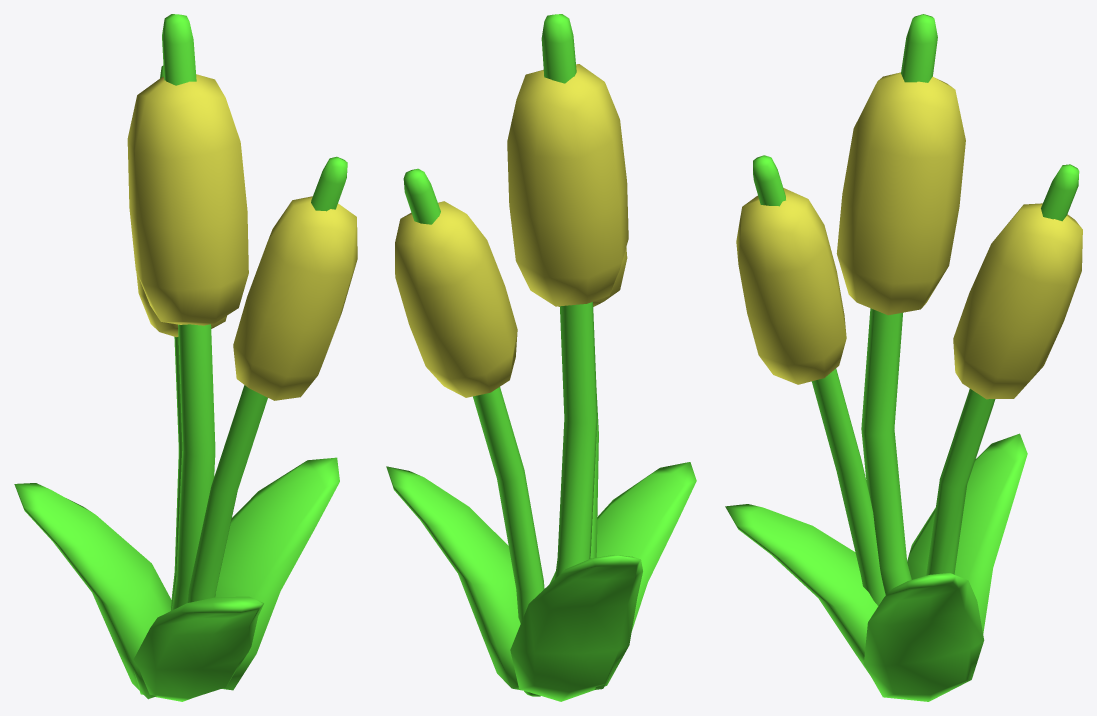
Rendered from reeeds.glb.
The picture shows the model from 3 angles, left to right: view 1: azimuth 30°, elevation 25°; view 2: azimuth 150°, elevation 25°; view 3: azimuth 270°, elevation 25°; orthographic projection.
Parts seen in each view (by area): view 1: reeeds; view 2: reeeds; view 3: reeeds.
Part boxes in pixels (x1,y1,x2,y2): reeeds: (14,14,357,701); reeeds: (386,14,696,701); reeeds: (725,14,1082,701).
Bounding box in the file's own units: 0.9917 × 2.28 × 1.09.
